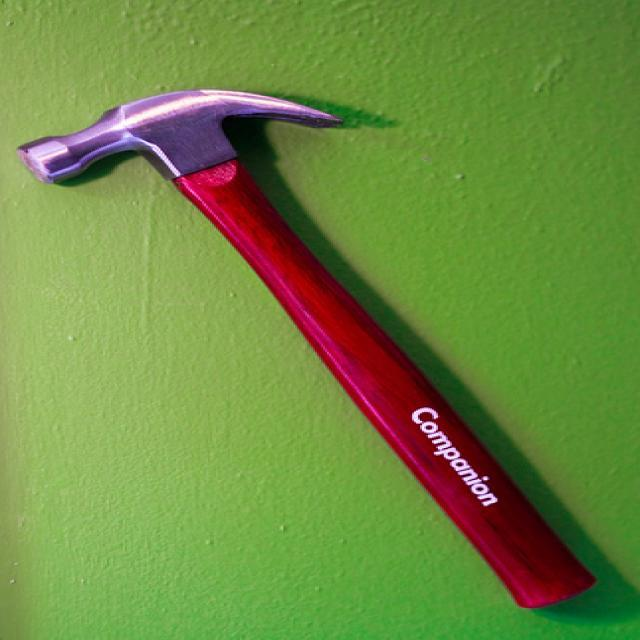hammer: (7, 77, 600, 610)
